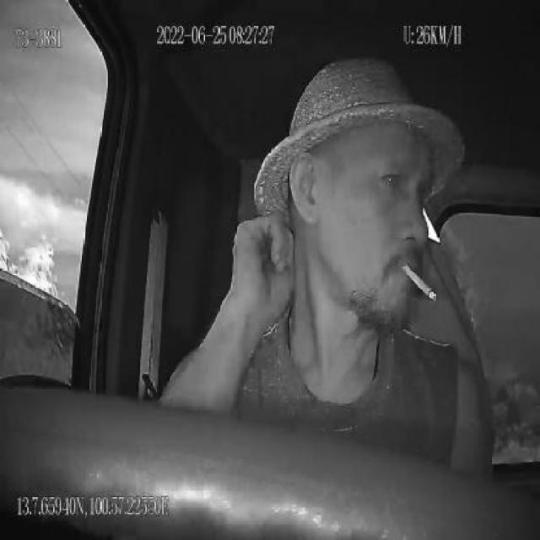smoking: (400, 260, 436, 302)
